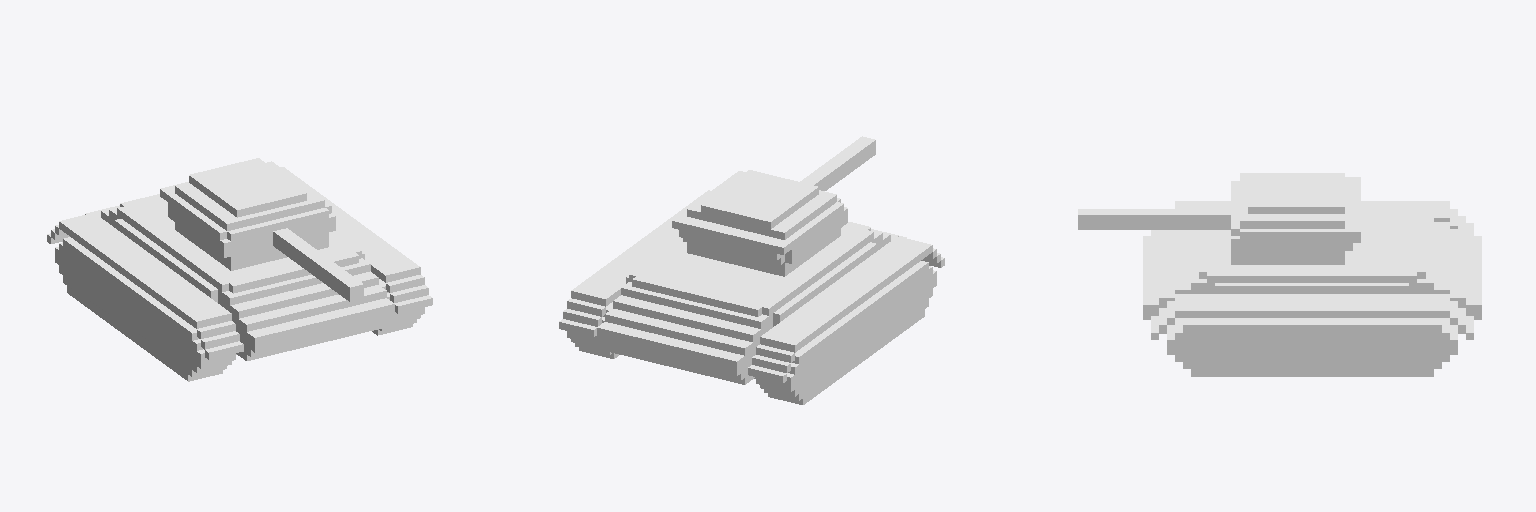
Rendered from playersTank.obj.
3 views of the same model, side by side, from view 1: azimuth 30°, elevation 25°; view 2: azimuth 150°, elevation 25°; view 3: azimuth 270°, elevation 25° (orthographic).
Parts seen in each view (by area): view 1: playersTank; view 2: playersTank; view 3: playersTank.
Part boxes in pixels (bbox=[...]): playersTank: bbox=[47, 158, 432, 381]; playersTank: bbox=[559, 136, 944, 404]; playersTank: bbox=[1078, 173, 1481, 376].
Size of the model in its own units: 32 by 18 by 50.